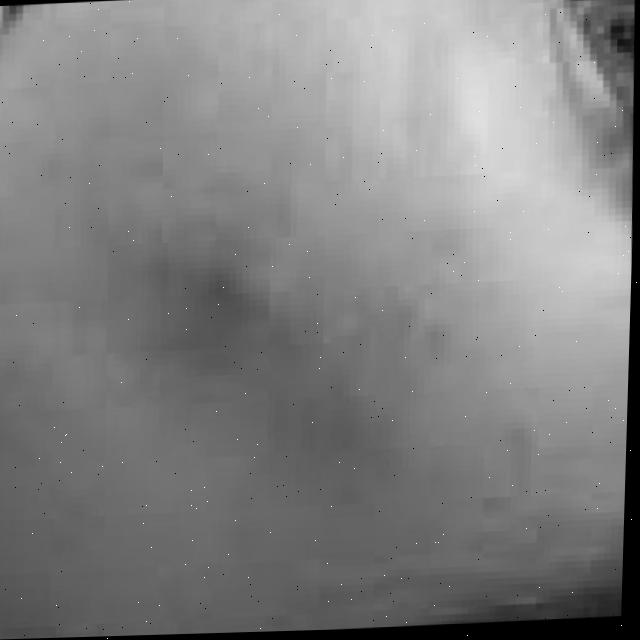Acne: (204, 226, 314, 333)
